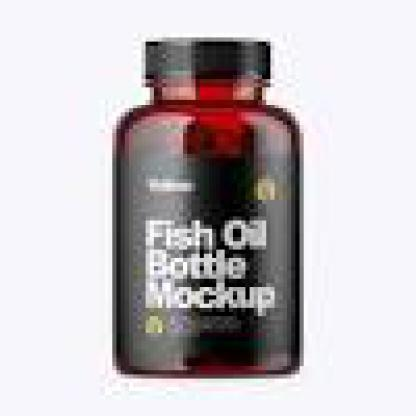jar: (114, 37, 300, 377)
